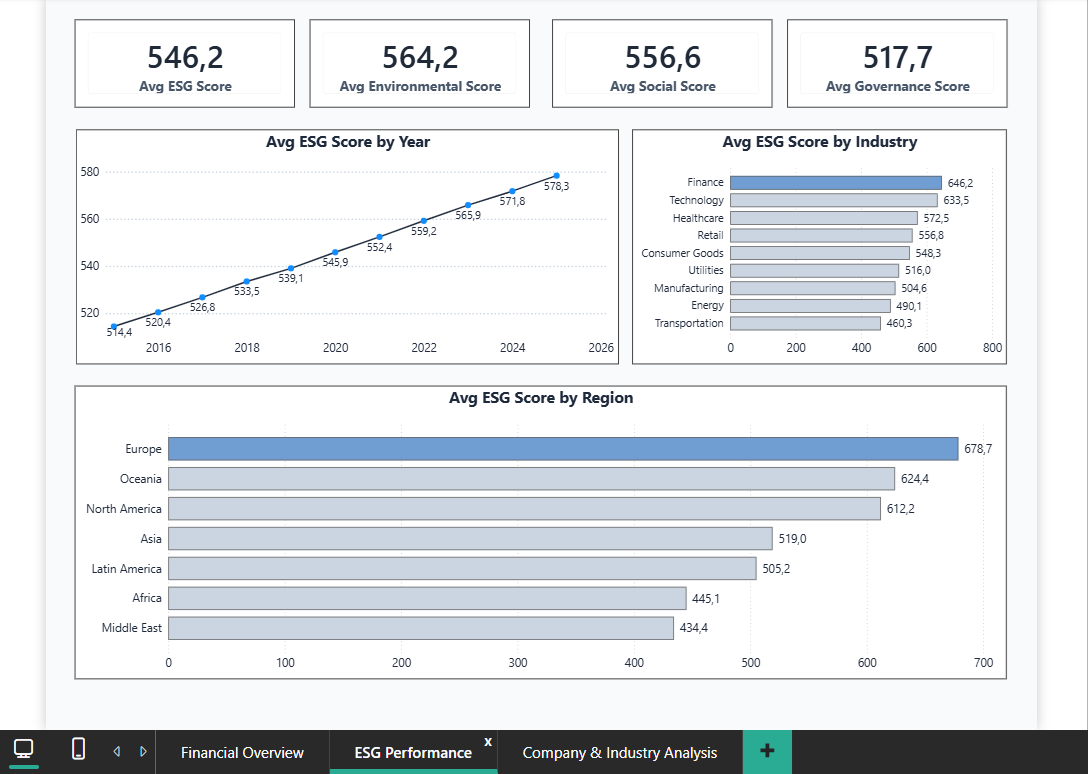

The dashboard page shown, as its layout file describes it:
{"tool":"powerbi","page":{"name":"ESG Performance","canvas":[1350,1000],"ordinal":1},"visuals":[{"type":"cardVisual","fields":{"Data":["Avg(esg_financial_performance.ESG Overall)"]},"box":[40,30,300,120],"z":0},{"type":"cardVisual","fields":{"Data":["Avg(esg_financial_performance.ESG Environmental)"]},"box":[360,30,300,120.2],"z":1000},{"type":"cardVisual","fields":{"Data":["Avg(esg_financial_performance.ESG Social)"]},"box":[690,30,300,120],"z":2000},{"type":"cardVisual","fields":{"Data":["Avg(esg_financial_performance.ESG Governance)"]},"box":[1010,30,300,120],"z":3000},{"type":"lineChart","title":"Avg ESG Score by Year","fields":{"Y":["Avg(esg_financial_performance.ESG Overall)"],"Category":["esg_financial_performance.Year"]},"box":[40.9,180,740,320],"z":4000},{"type":"clusteredBarChart","title":"Avg ESG Score by Industry","fields":{"Category":["esg_financial_performance.Industry"],"Y":["Avg(esg_financial_performance.ESG Overall)"]},"box":[800,180,510,320],"z":5000},{"type":"clusteredBarChart","title":"Avg ESG Score by Region","fields":{"Category":["esg_financial_performance.Region"],"Y":["Avg(esg_financial_performance.ESG Overall)"]},"box":[40,530,1270,400],"z":6000}]}

Visuals, with their boxes on the page's 1350x1000 design canvas (x1, y1, x2, y2). These are canvas units, not pixel positions in the 1088x774 screenshot, which may show the page scaled, cropped or inside an application window:
cardVisual - Avg(esg_financial_performance.ESG Overall): <region>40, 30, 340, 150</region>
cardVisual - Avg(esg_financial_performance.ESG Environmental): <region>360, 30, 660, 150</region>
cardVisual - Avg(esg_financial_performance.ESG Social): <region>690, 30, 990, 150</region>
cardVisual - Avg(esg_financial_performance.ESG Governance): <region>1010, 30, 1310, 150</region>
"Avg ESG Score by Year" lineChart: <region>41, 180, 781, 500</region>
"Avg ESG Score by Industry" clusteredBarChart: <region>800, 180, 1310, 500</region>
"Avg ESG Score by Region" clusteredBarChart: <region>40, 530, 1310, 930</region>
